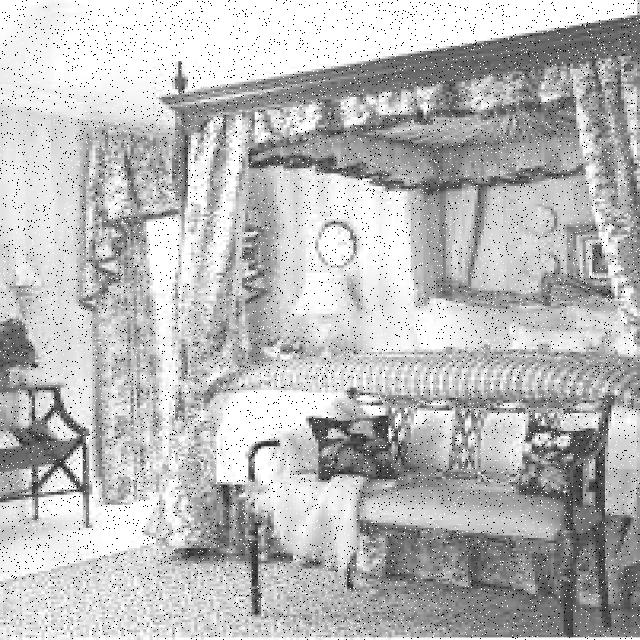bed: (197, 278, 640, 437)
